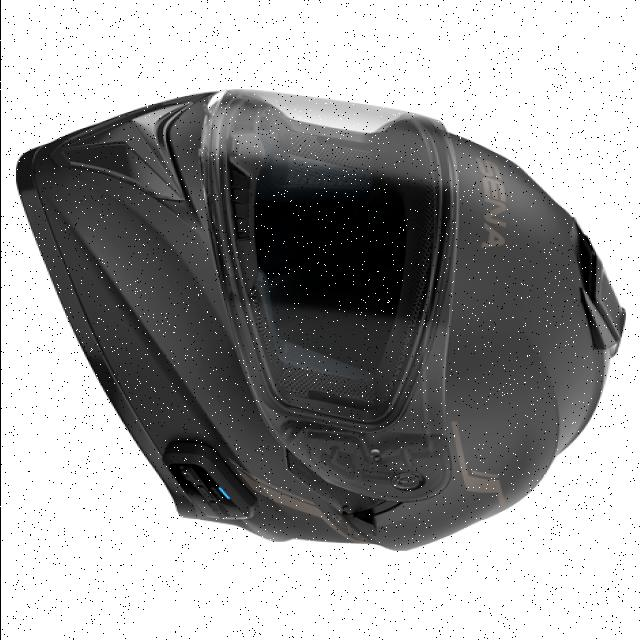Helmet: (0, 80, 629, 559)
